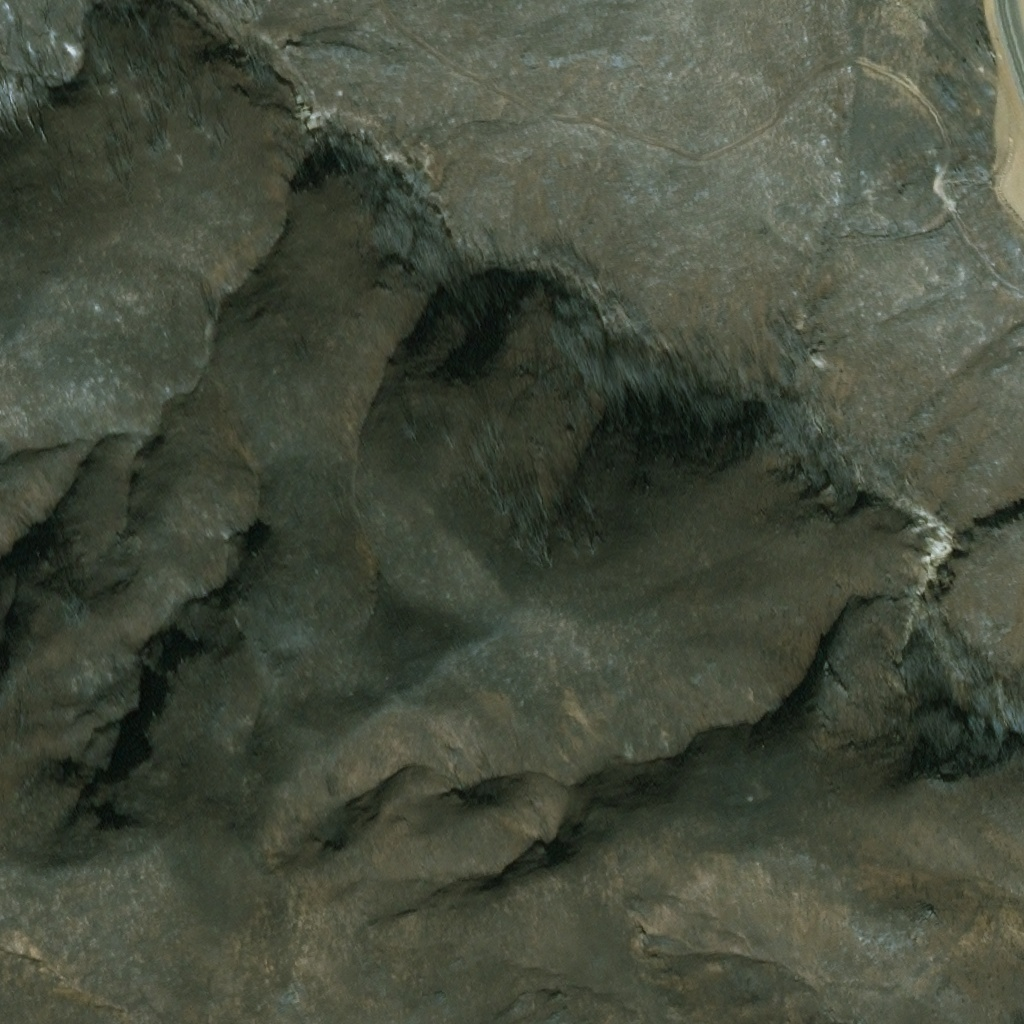3 destroyed: (280, 74, 315, 114)
